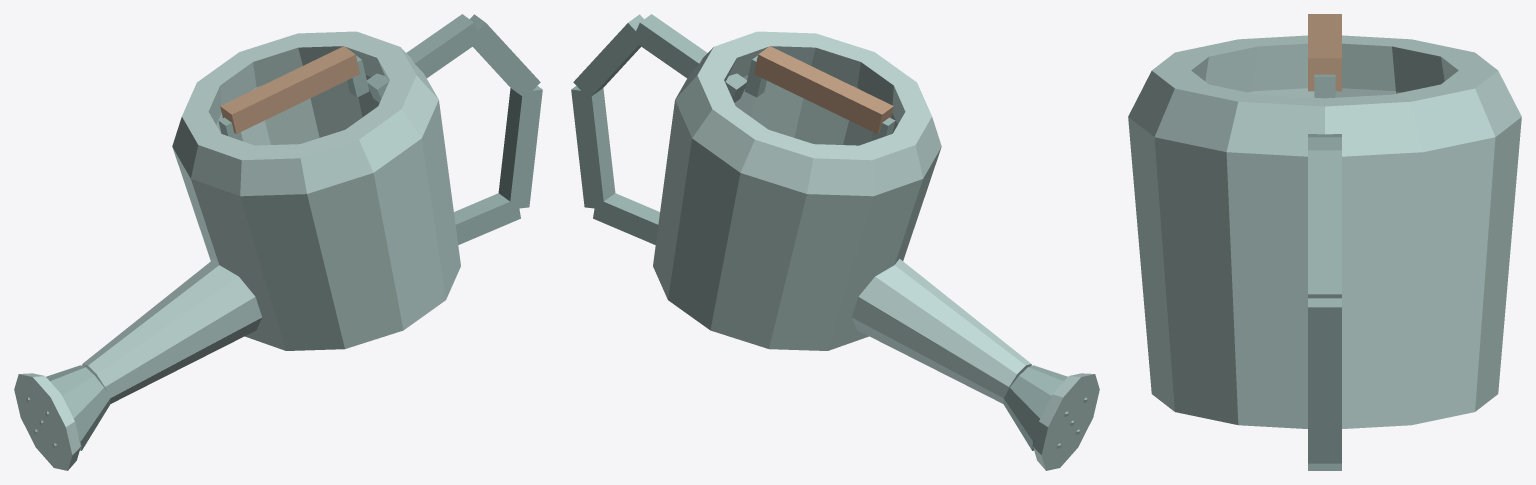
Rendered from crafted-tool-watering-can-4.glb.
3 views of the same model, side by side, from view 1: azimuth 30°, elevation 25°; view 2: azimuth 150°, elevation 25°; view 3: azimuth 270°, elevation 25° (orthographic). The views are drawn at different scales.
Visible parts, largest first — view 1: vessel, spout, top-grip, rose, handle-2, handle, rose-neck, handle-1, handle-3; view 2: vessel, spout, top-grip, rose, handle-2, handle, rose-neck, handle-1, handle-3; view 3: vessel, handle-2, handle-1, top-grip, handle, grip-support-1.
Part boxes in pixels (left/top/right/bottom): vessel: left=172, top=31, right=460, bottom=350; spout: left=82, top=258, right=262, bottom=403; top-grip: left=220, top=46, right=360, bottom=133; rose: left=14, top=373, right=80, bottom=470; handle-2: left=498, top=86, right=542, bottom=209; handle: left=367, top=14, right=480, bottom=102; rose-neck: left=46, top=365, right=110, bottom=450; handle-1: left=470, top=14, right=540, bottom=98; handle-3: left=454, top=193, right=520, bottom=244; vessel: left=653, top=31, right=941, bottom=350; spout: left=851, top=258, right=1031, bottom=403; top-grip: left=753, top=46, right=893, bottom=133; rose: left=1033, top=373, right=1099, bottom=470; handle-2: left=571, top=86, right=615, bottom=209; handle: left=632, top=14, right=746, bottom=102; rose-neck: left=1003, top=365, right=1067, bottom=450; handle-1: left=573, top=14, right=643, bottom=98; handle-3: left=593, top=193, right=659, bottom=244; vessel: left=1128, top=35, right=1521, bottom=428; handle-2: left=1308, top=298, right=1341, bottom=463; handle-1: left=1308, top=150, right=1341, bottom=298; top-grip: left=1308, top=14, right=1341, bottom=91; handle: left=1308, top=134, right=1341, bottom=150; grip-support-1: left=1314, top=74, right=1335, bottom=98.
Size of the model in its own units: 1.07 by 0.7071 by 0.5.
